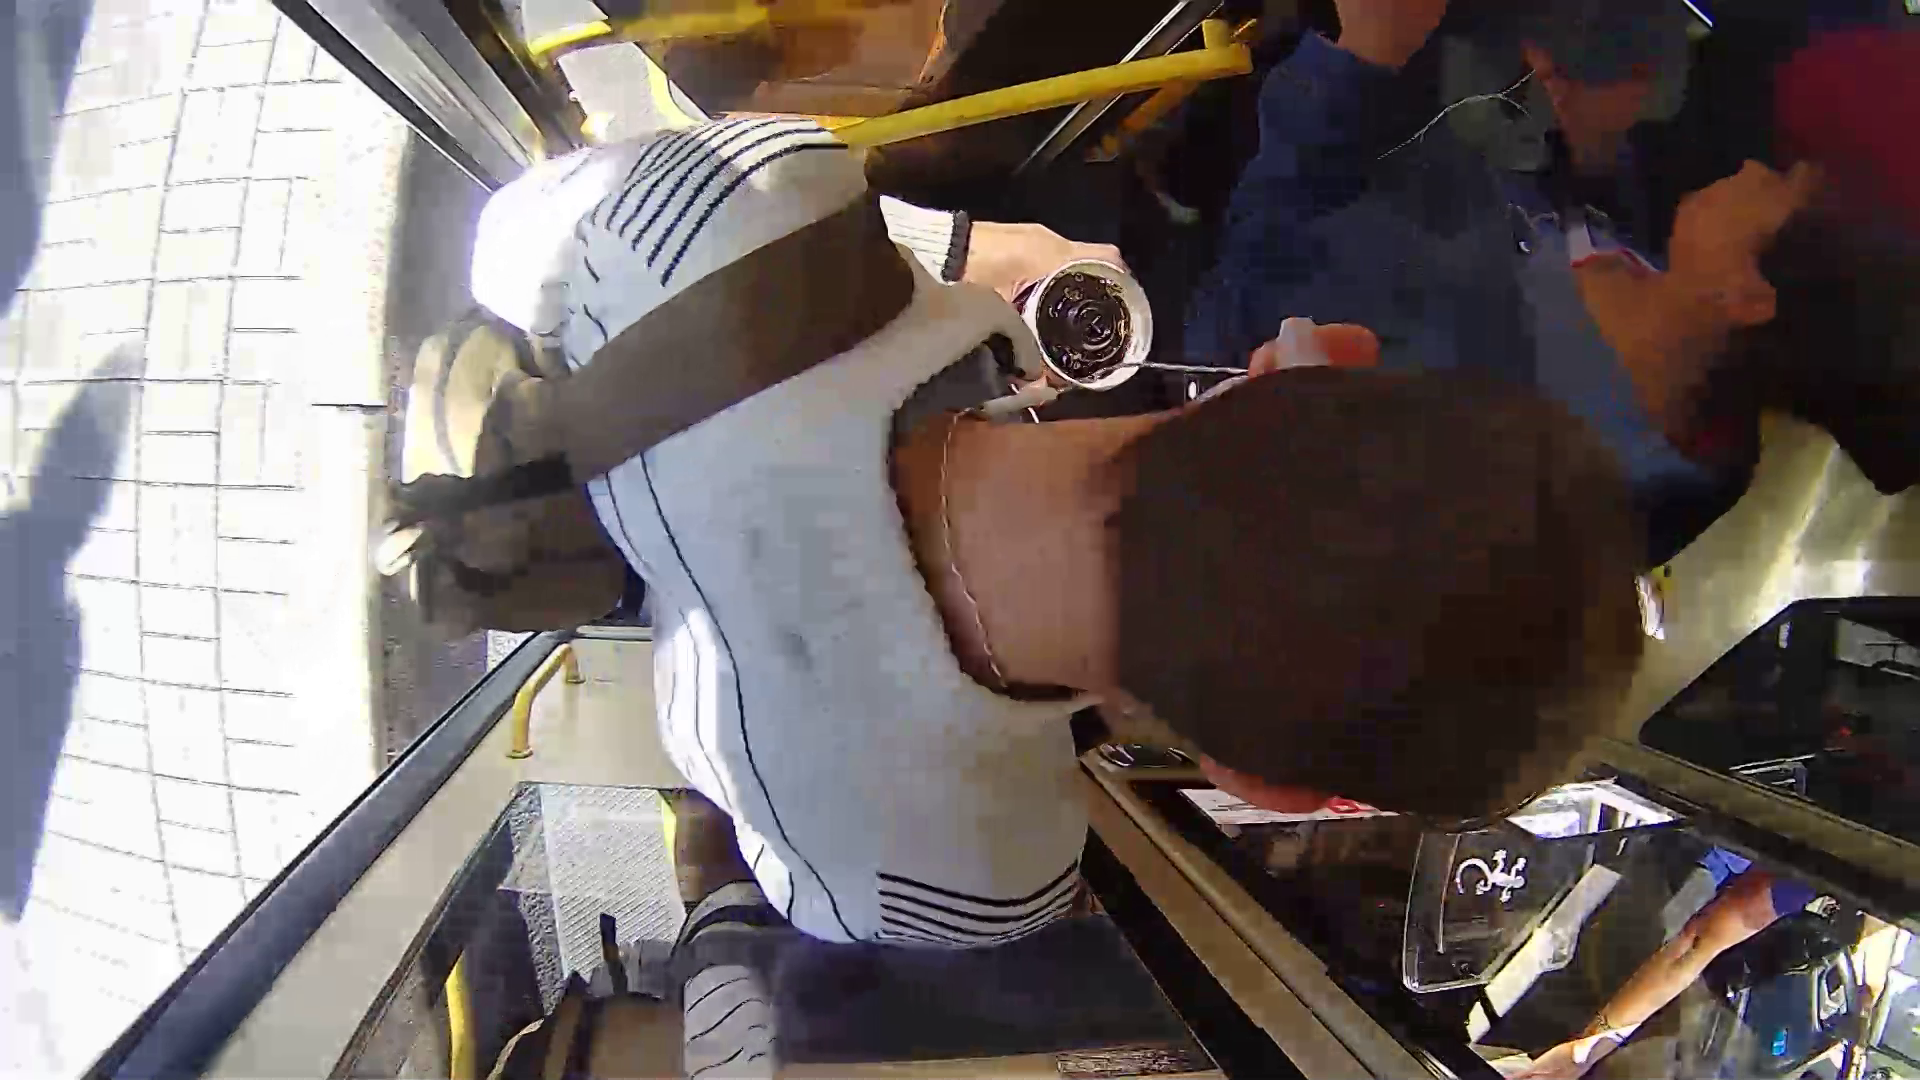person: (437, 173, 1619, 892)
